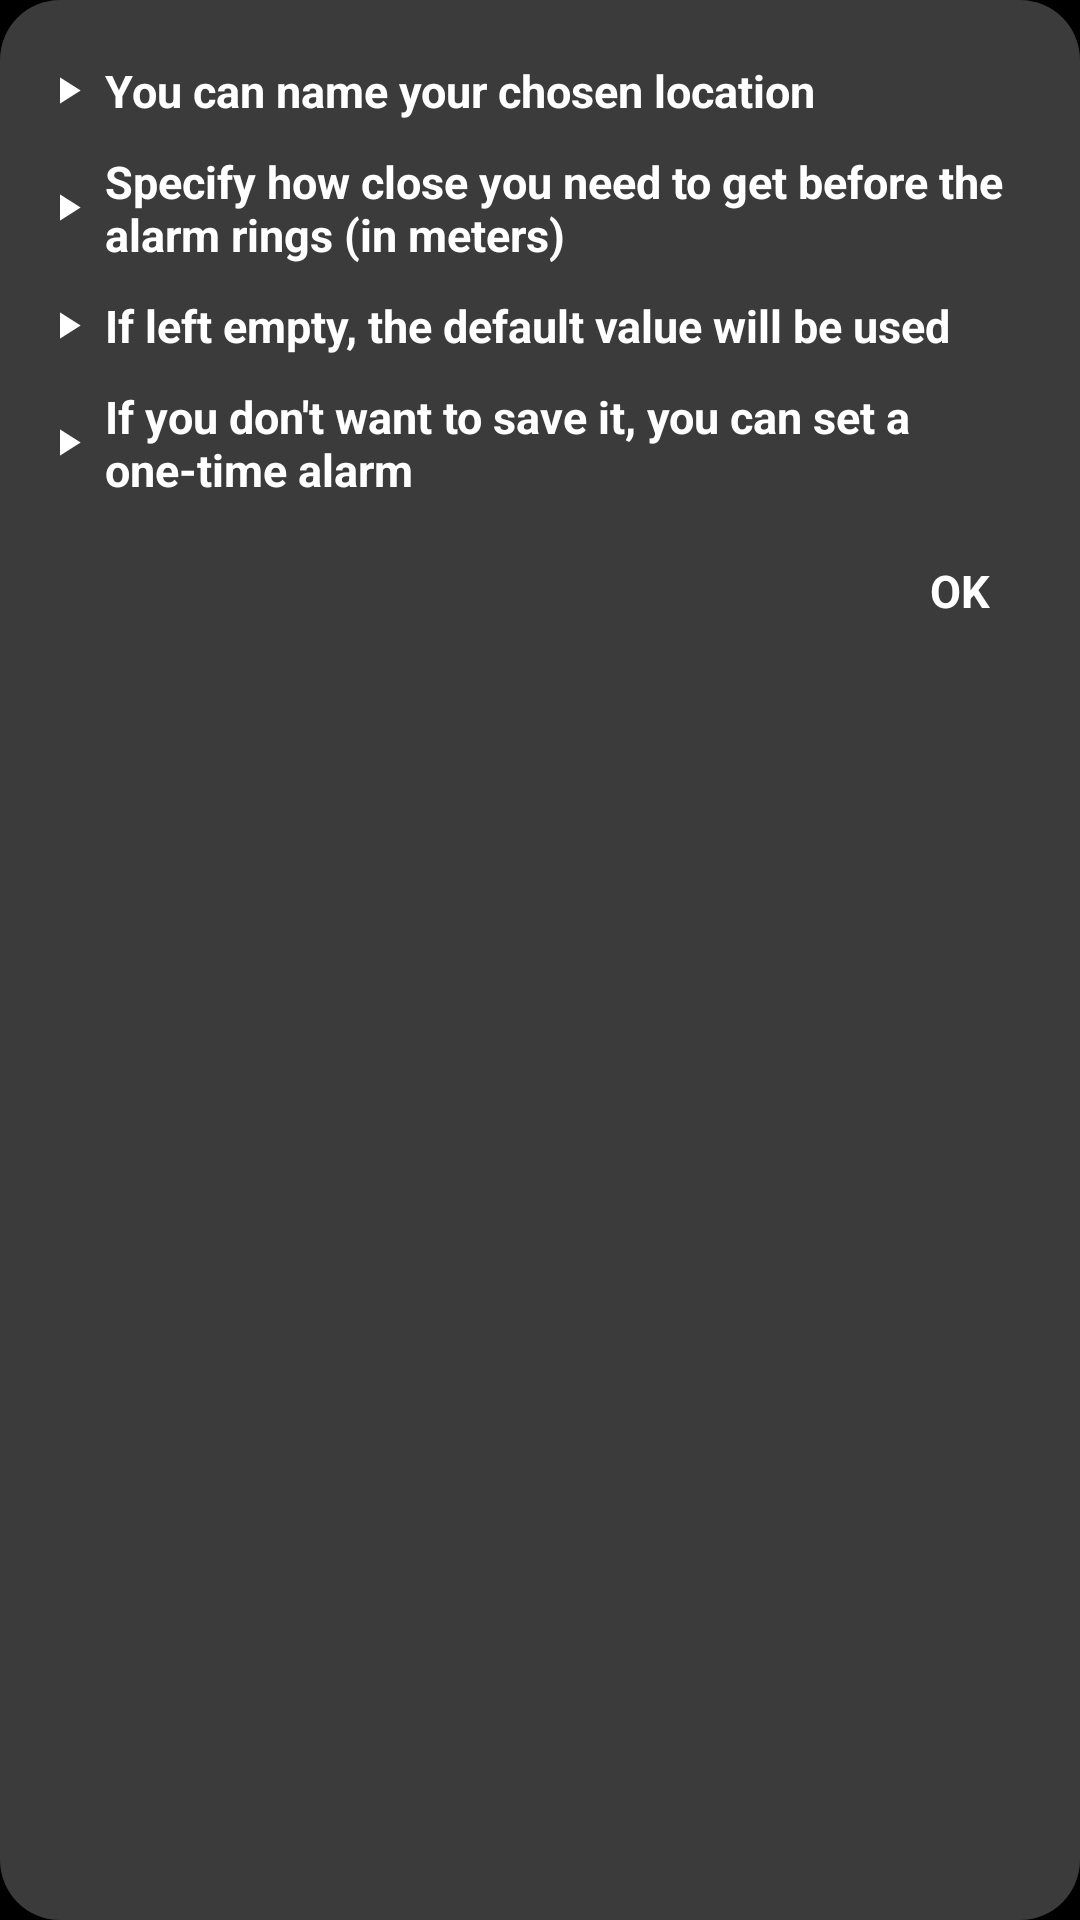

Named icons in this screenshot (1080 × 1920) and their bounding boxes, [x1=x1, y1=y1, x2=x2, y2=y2]:
play arrow: [x1=60, y1=77, x2=81, y2=104], [x1=60, y1=194, x2=81, y2=221], [x1=60, y1=312, x2=81, y2=339], [x1=60, y1=429, x2=81, y2=456]
